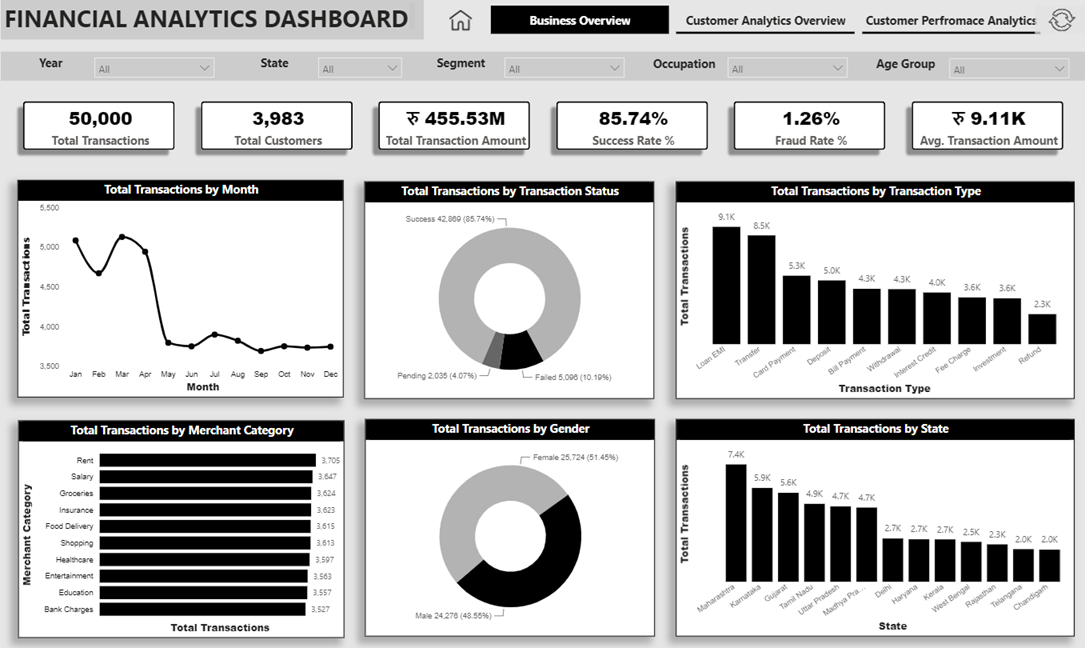

What the dashboard file says about the page in this screenshot:
{"tool":"powerbi","page":{"name":"Business Overview","canvas":[1500,900],"ordinal":1},"visuals":[{"type":"shape","box":[0,0,583.9,56.8],"z":0,"group":"g8"},{"type":"group","id":"g1","title":"Group 6","box":[18.8,71.3,285.2,39.1],"z":0,"group":"g7"},{"type":"pageNavigator","box":[675.8,10.3,758.5,39.3],"z":1000},{"type":"group","id":"g2","title":"Group 7","box":[327.8,71.3,235.6,39.1],"z":1000,"group":"g7"},{"type":"textbox","box":[0,0,576.6,49.6],"z":2000,"group":"g8"},{"type":"actionButton","box":[1426.1,10.3,74.4,39.3],"z":3000},{"type":"group","id":"g3","title":"Group 8","box":[584.1,71.3,285.2,40.1],"z":3000,"group":"g7"},{"type":"cardVisual","fields":{"Data":["finance_transactions csv.Total Transactions","finance_transactions csv.Total Customers","finance_transactions csv.Total Transaction Amount","finance_transactions csv.Success Rate %","finance_transactions csv.Fraud Rate %","finance_transactions csv.Average Transaction Amount"]},"box":[0,111.6,1500.5,129.2],"z":4000},{"type":"group","id":"g4","title":"Group 1","box":[0,71.3,1500.5,42.4],"z":5000},{"type":"group","id":"g5","title":"Group 9","box":[1198.2,72.5,285.4,38.8],"z":5000,"group":"g7"},{"type":"slicer","fields":{"Values":["finance_transactions csv.Transaction_Year"]},"box":[118.8,71.3,185,38.8],"z":6000,"group":"g1"},{"type":"group","id":"g6","title":"Group 10","box":[892,71.8,285.4,39.5],"z":6000,"group":"g7"},{"type":"advancedSlicerVisual","fields":{"Values":["KPI.KPI"]},"box":[11.4,124,1477.8,106.4],"z":6000},{"type":"slicer","fields":{"Values":["customers csv.state"]},"box":[427.8,71.3,135.5,39.3],"z":7000,"group":"g2"},{"type":"shape","box":[0,73.7,1500.5,40.3],"z":7000,"group":"g4"},{"type":"clusteredColumnChart","fields":{"Category":["customers csv.state"],"Y":["finance_transactions csv.Total Transactions"]},"box":[931.1,579.7,549.8,299.7],"z":7000},{"type":"slicer","fields":{"Values":["customers csv.customer_segment"]},"box":[684.1,71.3,185,39.3],"z":8000,"group":"g3"},{"type":"clusteredColumnChart","fields":{"Category":["finance_transactions csv.transaction_type"],"Y":["finance_transactions csv.Total Transactions"]},"box":[930.6,251.6,549.8,299.7],"z":8000},{"type":"group","id":"g7","title":"Slicer","box":[18.8,71.3,1465,40],"z":8001,"group":"g4"},{"type":"slicer","fields":{"Values":["customers csv.occupation"]},"box":[992.1,71.8,185,39.1],"z":9000,"group":"g6"},{"type":"slicer","fields":{"Values":["customers csv.age_group"]},"box":[1298.2,72.5,185,39.3],"z":9000,"group":"g5"},{"type":"clusteredBarChart","fields":{"Category":["finance_transactions csv.merchant_category"],"Y":["finance_transactions csv.Total Transactions"]},"box":[23.7,581.3,450,300],"z":9000},{"type":"textbox","box":[18.8,71.3,100,38.8],"z":10000,"group":"g1"},{"type":"textbox","box":[892,72.4,100.5,38.8],"z":10000,"group":"g6"},{"type":"textbox","box":[1198.2,72.5,100,39.3],"z":10000,"group":"g5"},{"type":"lineChart","fields":{"Category":["finance_transactions csv.Transaction_Month_Name"],"Y":["finance_transactions csv.Total Transactions"]},"box":[22.5,250.5,450,300],"z":10000},{"type":"textbox","box":[584.1,71.3,100,39.3],"z":10002,"group":"g3"},{"type":"textbox","box":[327.8,71.8,100,38.8],"z":10002,"group":"g2"},{"type":"donutChart","fields":{"Category":["customers csv.gender"],"Y":["finance_transactions csv.Total Transactions"]},"box":[502.5,579.9,400,300],"z":11000},{"type":"donutChart","fields":{"Category":["finance_transactions csv.transaction_status"],"Y":["finance_transactions csv.Total Transactions"]},"box":[501,252.1,399.9,300],"z":12000},{"type":"group","id":"g8","title":"Group 2","box":[0,0,583.9,56.8],"z":12001},{"type":"actionButton","box":[597.3,10.3,74.4,39.3],"z":12002}]}

Visuals, with their boxes in screenshot pixels (x1, y1, x2, y2), scaled from the page's 1500x900 canvas onto the 1085x648 screenshot:
shape: locate(0, 0, 422, 41)
"Group 6" group: locate(14, 51, 220, 79)
pageNavigator: locate(489, 7, 1037, 36)
"Group 7" group: locate(237, 51, 408, 79)
textbox: locate(0, 0, 417, 36)
actionButton: locate(1032, 7, 1084, 36)
"Group 8" group: locate(422, 51, 629, 80)
cardVisual - finance_transactions csv.Total Transactions x finance_transactions csv.Total Customers: locate(0, 80, 1084, 173)
"Group 1" group: locate(0, 51, 1084, 82)
"Group 9" group: locate(867, 52, 1073, 80)
slicer - finance_transactions csv.Transaction_Year: locate(86, 51, 220, 79)
"Group 10" group: locate(645, 52, 852, 80)
advancedSlicerVisual - KPI.KPI: locate(8, 89, 1077, 166)
slicer - customers csv.state: locate(309, 51, 407, 80)
shape: locate(0, 53, 1084, 82)
clusteredColumnChart - customers csv.state x finance_transactions csv.Total Transactions: locate(673, 417, 1071, 633)
slicer - customers csv.customer_segment: locate(495, 51, 629, 80)
clusteredColumnChart - finance_transactions csv.transaction_type x finance_transactions csv.Total Transactions: locate(673, 181, 1071, 397)
"Slicer" group: locate(14, 51, 1073, 80)
slicer - customers csv.occupation: locate(718, 52, 851, 80)
slicer - customers csv.age_group: locate(939, 52, 1073, 80)
clusteredBarChart - finance_transactions csv.merchant_category x finance_transactions csv.Total Transactions: locate(17, 419, 343, 635)
textbox: locate(14, 51, 86, 79)
textbox: locate(645, 52, 718, 80)
textbox: locate(867, 52, 939, 80)
lineChart - finance_transactions csv.Transaction_Month_Name x finance_transactions csv.Total Transactions: locate(16, 180, 342, 396)
textbox: locate(422, 51, 495, 80)
textbox: locate(237, 52, 309, 80)
donutChart - customers csv.gender x finance_transactions csv.Total Transactions: locate(363, 418, 653, 634)
donutChart - finance_transactions csv.transaction_status x finance_transactions csv.Total Transactions: locate(362, 182, 652, 398)
"Group 2" group: locate(0, 0, 422, 41)
actionButton: locate(432, 7, 486, 36)
